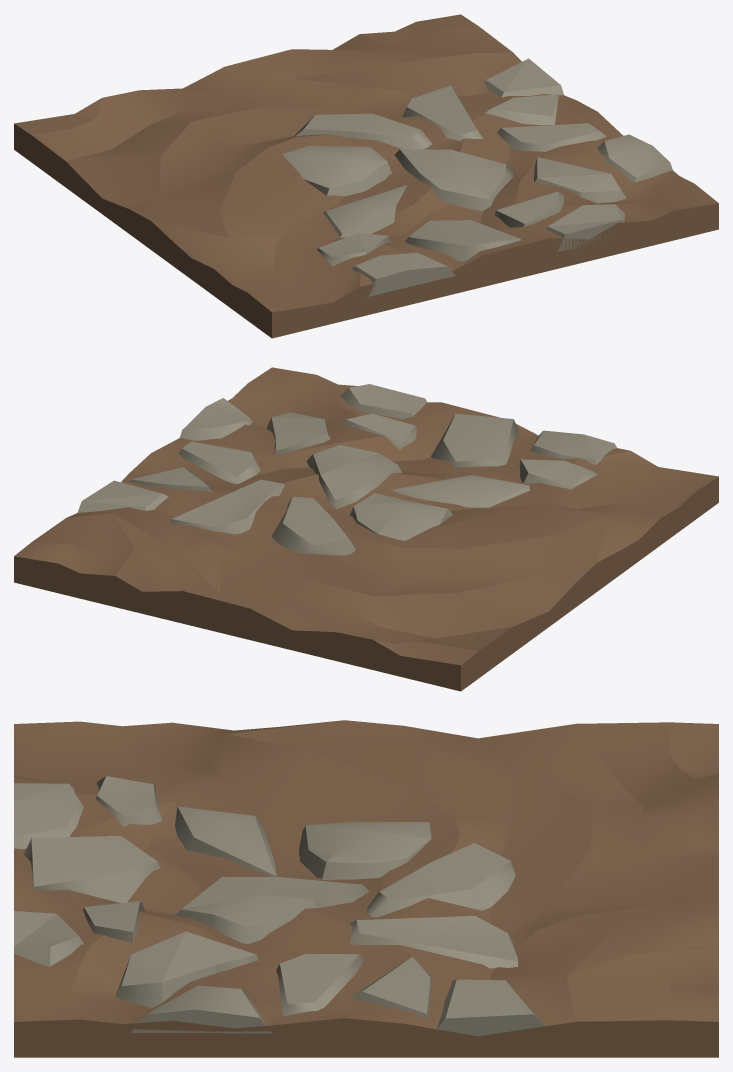
The model's file is Ground_Stone_Path_Turn_LU.glb.
The picture shows the model from 3 angles, top to bottom: view 1: azimuth 30°, elevation 25°; view 2: azimuth 150°, elevation 25°; view 3: azimuth 270°, elevation 25°; orthographic projection. The views are drawn at different scales.
Visible parts, largest first — view 1: Ground_Stone_Path_Turn_LU; view 2: Ground_Stone_Path_Turn_LU; view 3: Ground_Stone_Path_Turn_LU.
Part boxes in pixels (x1,y1,x2,y2): Ground_Stone_Path_Turn_LU: [14, 14, 718, 338]; Ground_Stone_Path_Turn_LU: [14, 367, 718, 691]; Ground_Stone_Path_Turn_LU: [14, 720, 718, 1057].
Size of the model in its own units: 1.47 by 0.1343 by 1.47.
